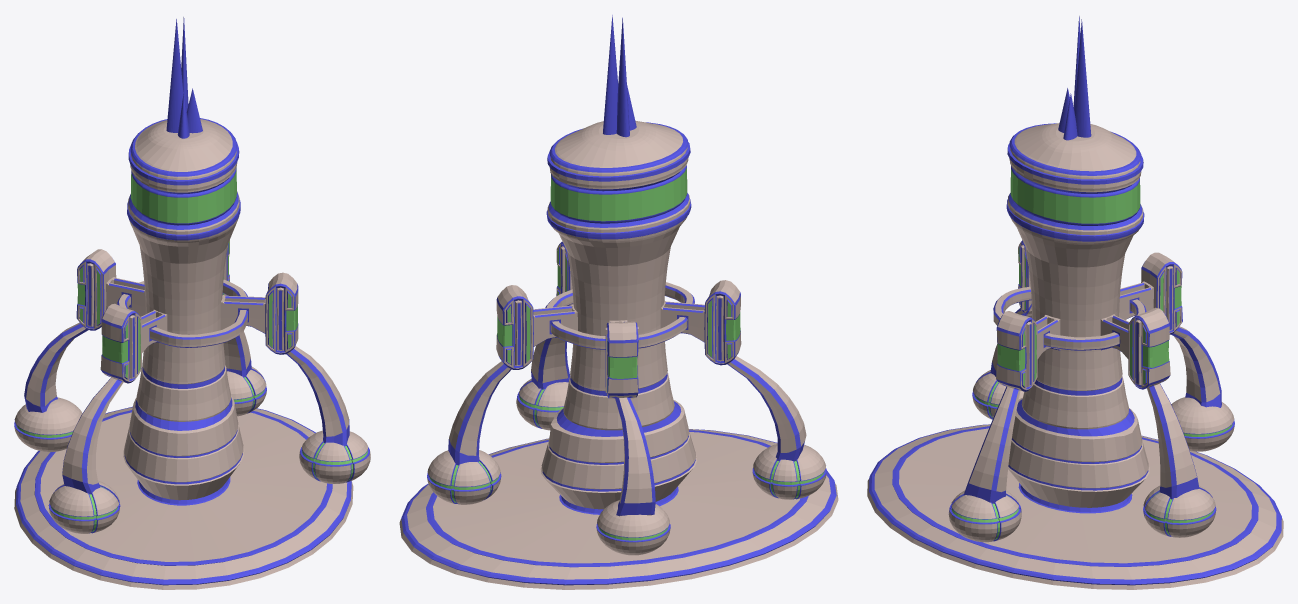
Rendered from Laboratoire_L_MC.fbx.
The picture shows the model from 3 angles, left to right: view 1: azimuth 30°, elevation 25°; view 2: azimuth 150°, elevation 25°; view 3: azimuth 270°, elevation 25°; orthographic projection. The views are drawn at different scales.
Visible parts, largest first — view 1: Lab Lvl 1.011; view 2: Lab Lvl 1.011; view 3: Lab Lvl 1.011.
Part boxes in pixels (left/top/right/bottom): Lab Lvl 1.011: left=14, top=17, right=370, bottom=589; Lab Lvl 1.011: left=399, top=15, right=838, bottom=589; Lab Lvl 1.011: left=867, top=16, right=1283, bottom=589.
Bounding box in the file's own units: 1934 × 2729 × 2093.
